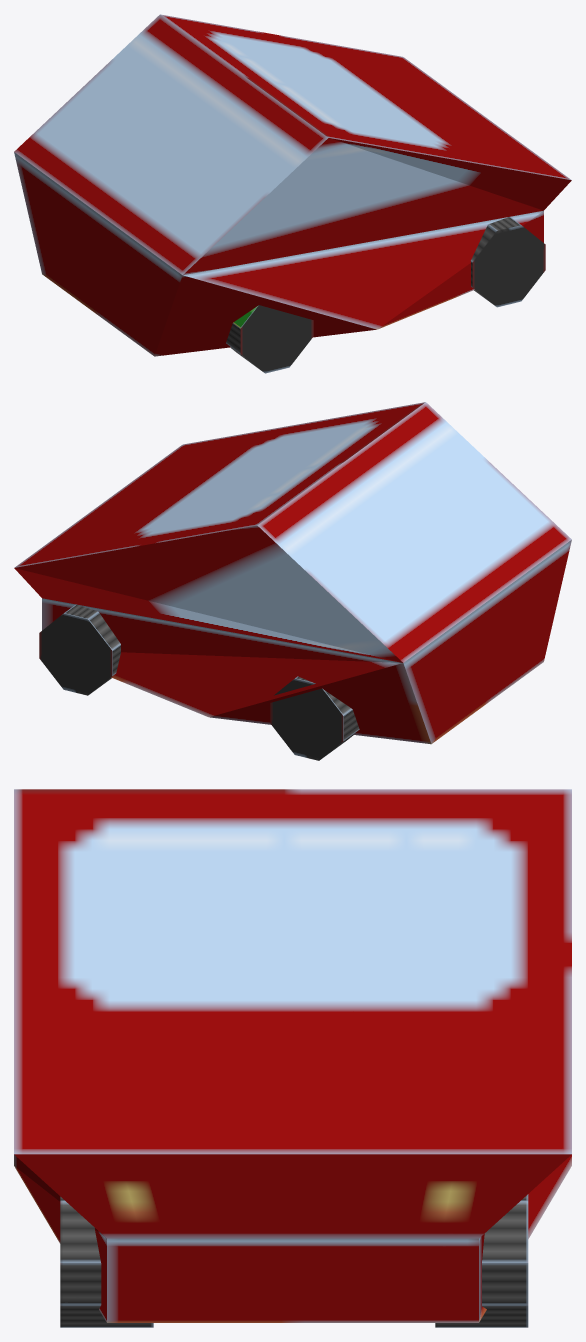
Rendered from RedCaar.obj.
The picture shows the model from 3 angles, top to bottom: view 1: azimuth 30°, elevation 25°; view 2: azimuth 150°, elevation 25°; view 3: azimuth 270°, elevation 25°; orthographic projection. The views are drawn at different scales.
Visible parts, largest first — view 1: RedCaar; view 2: RedCaar; view 3: RedCaar.
Part boxes in pixels (left/top/right/bottom): RedCaar: left=14, top=14, right=571, bottom=373; RedCaar: left=14, top=402, right=571, bottom=760; RedCaar: left=14, top=789, right=571, bottom=1327.
Bounding box in the file's own units: 2 × 1.1 × 1.5.
Materials: 1 (1 with a texture image).
